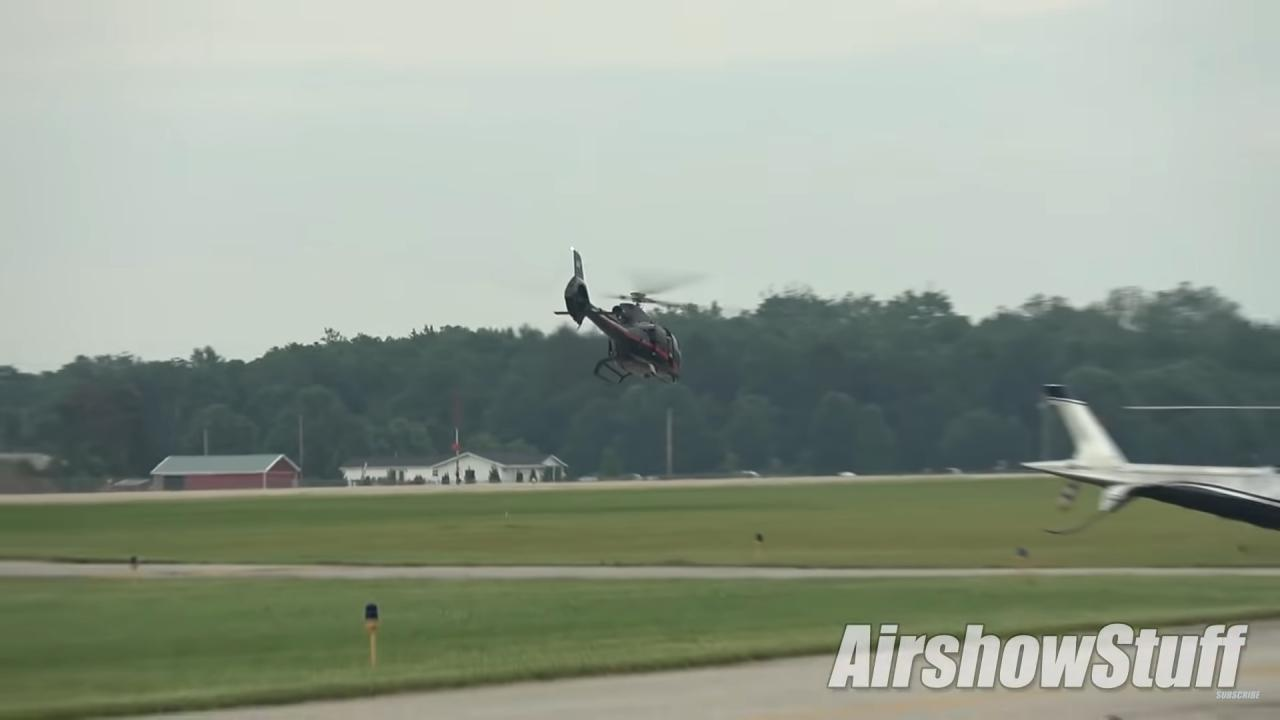Helicopter: (543, 234, 717, 395)
